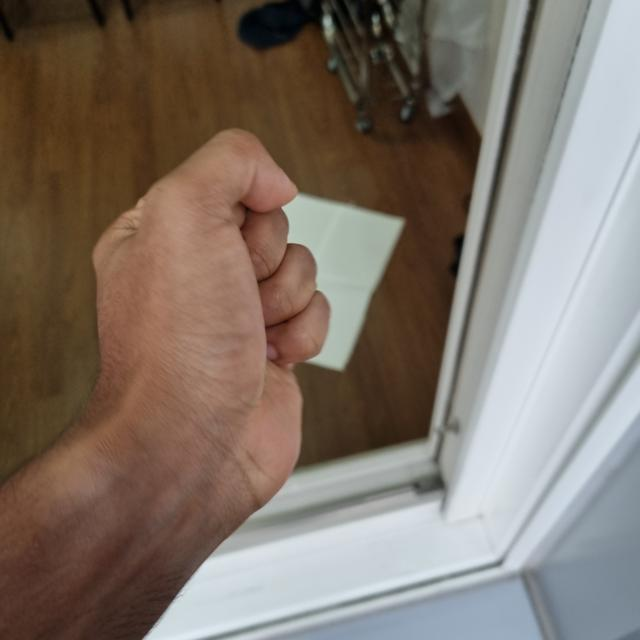Rock: (84, 129, 330, 547)
